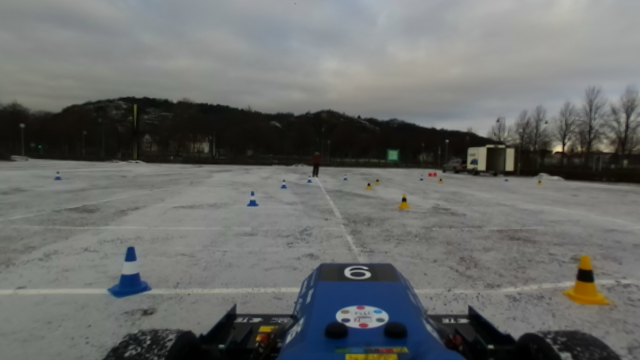blue: (106, 243, 151, 301), (244, 190, 259, 208)
yellow: (564, 253, 614, 310), (397, 193, 410, 209)
